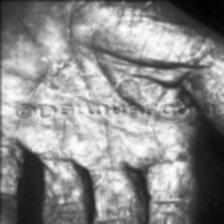Non-Cancerous Skin Condition: (28, 61, 170, 129), (156, 138, 209, 224)
